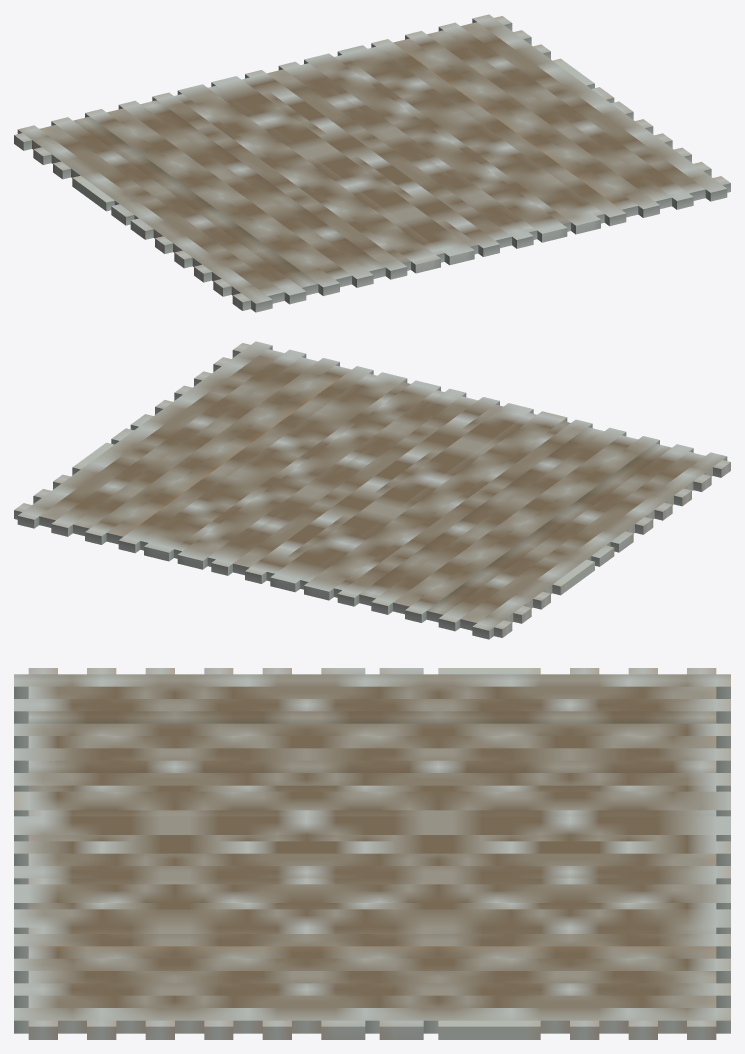
The model's file is CarpetCircularPattern_00.fbx.
The picture shows the model from 3 angles, top to bottom: view 1: azimuth 30°, elevation 25°; view 2: azimuth 150°, elevation 25°; view 3: azimuth 270°, elevation 25°; orthographic projection. The views are drawn at different scales.
Visible parts, largest first — view 1: CarpetCircularPattern_00; view 2: CarpetCircularPattern_00; view 3: CarpetCircularPattern_00.
Boxes of the visible parts, box(x1,y1,x2,y2) form: CarpetCircularPattern_00: box(14, 14, 730, 312); CarpetCircularPattern_00: box(14, 341, 730, 639); CarpetCircularPattern_00: box(14, 668, 730, 1039).
Bounding box in the file's own units: 290 × 245 × 5.
1 material, 1 textured.
